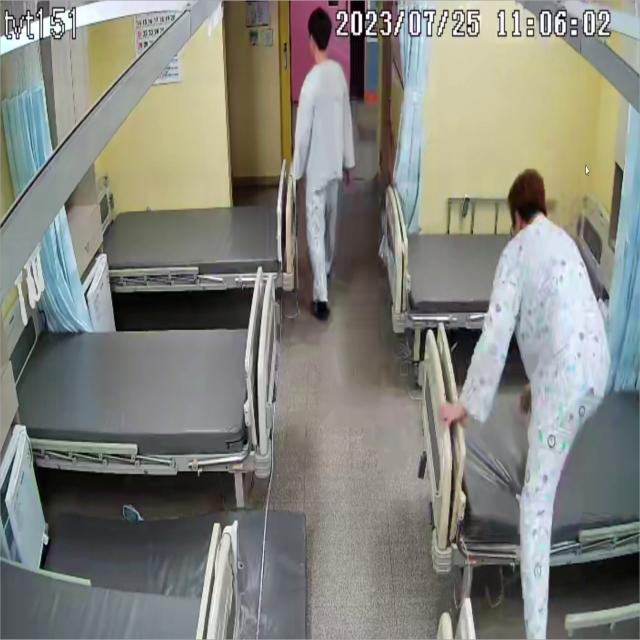bed: (420, 324, 640, 569), (14, 274, 278, 471), (382, 173, 616, 332), (105, 168, 294, 291)
danger: (443, 170, 611, 640)
patient: (445, 167, 611, 640), (288, 10, 357, 323)
